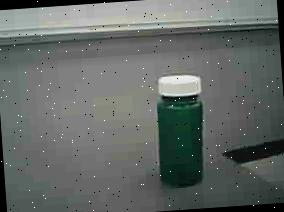Bottle C: (143, 62, 216, 192)
